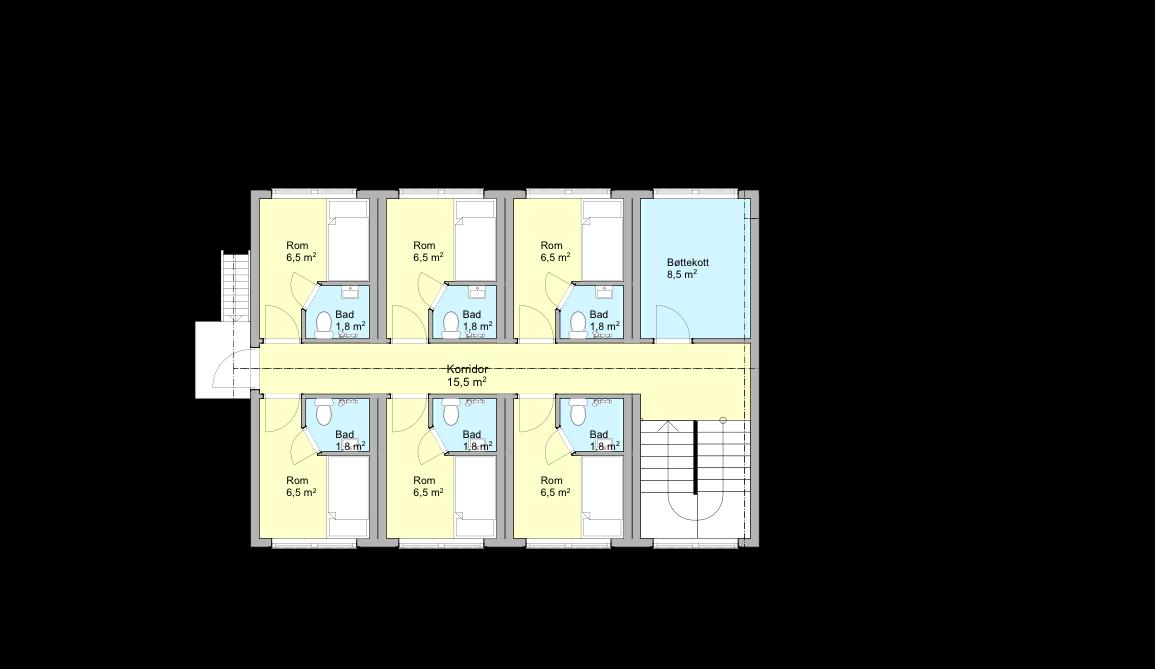room: (503, 195, 633, 343), (377, 397, 505, 543), (505, 396, 632, 543), (378, 195, 503, 342), (255, 195, 377, 341), (632, 195, 753, 342), (256, 395, 377, 542)
